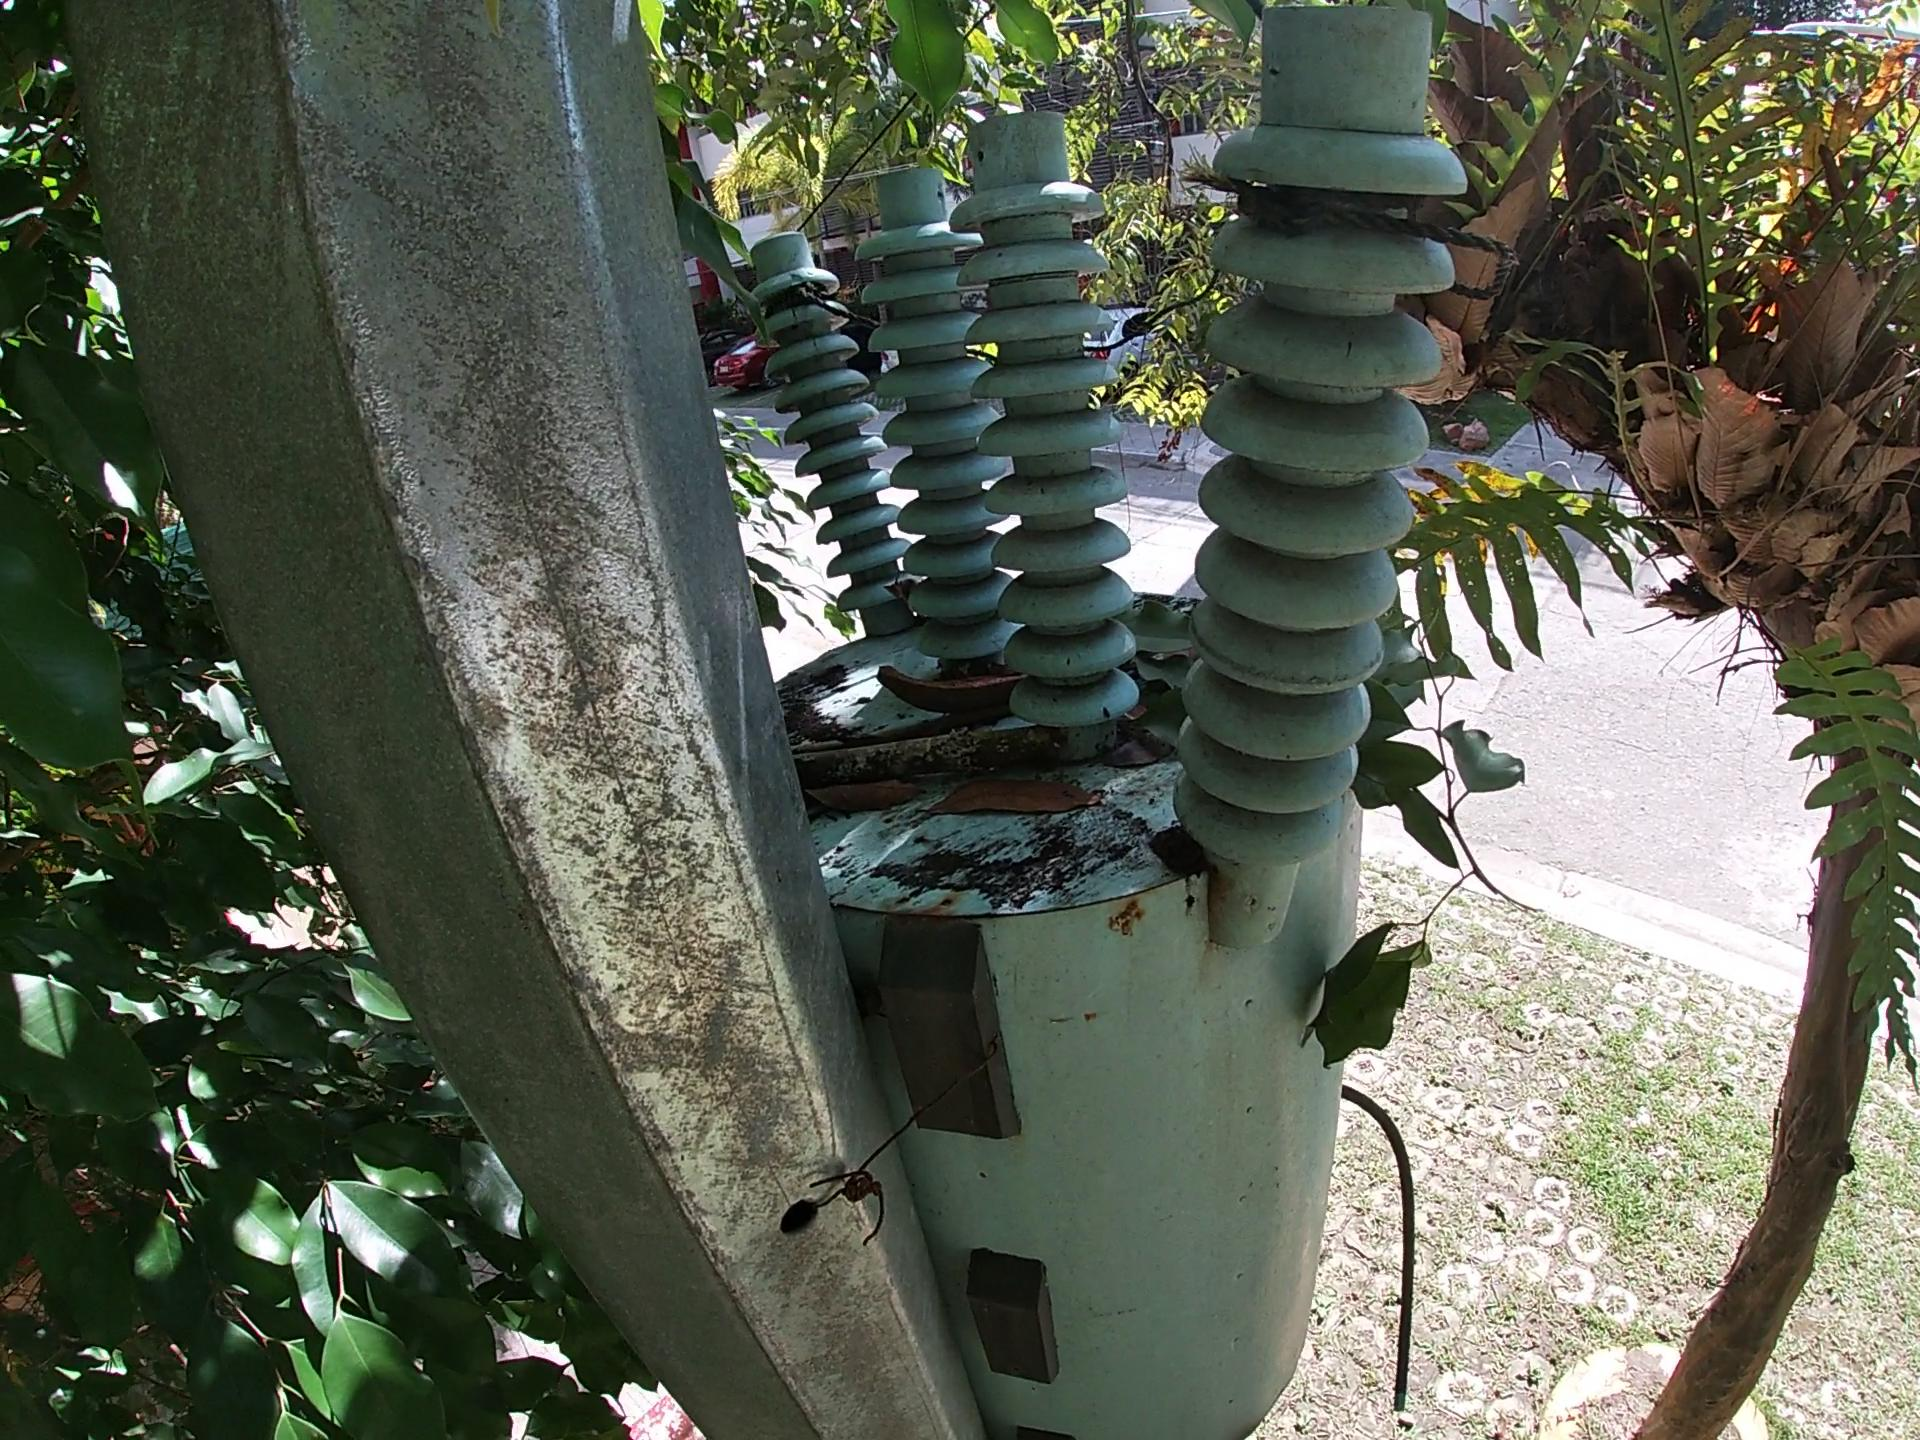branch with leaves: (1297, 605, 1504, 1080)
leaf: (1129, 596, 1200, 767), (934, 781, 1101, 814), (806, 781, 913, 814)
mahogany fruit: (856, 658, 1039, 731)
tree branch: (785, 737, 1055, 771)
